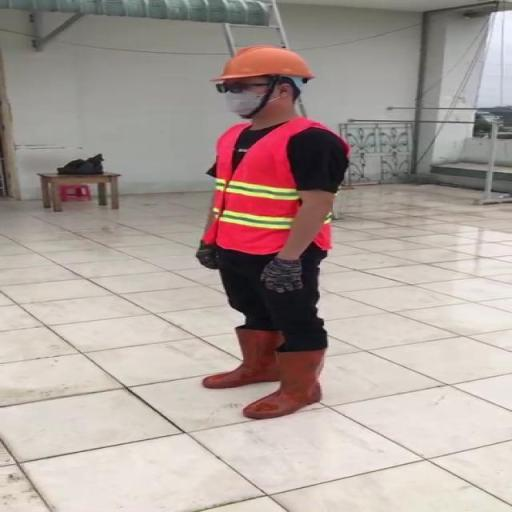Person: (173, 30, 359, 438)
boots: (236, 336, 330, 424), (191, 315, 292, 395)
gloves: (254, 248, 312, 303), (194, 236, 228, 277)
goggles: (204, 69, 282, 101)
helmet: (213, 37, 316, 86)
vest: (194, 113, 355, 266)
